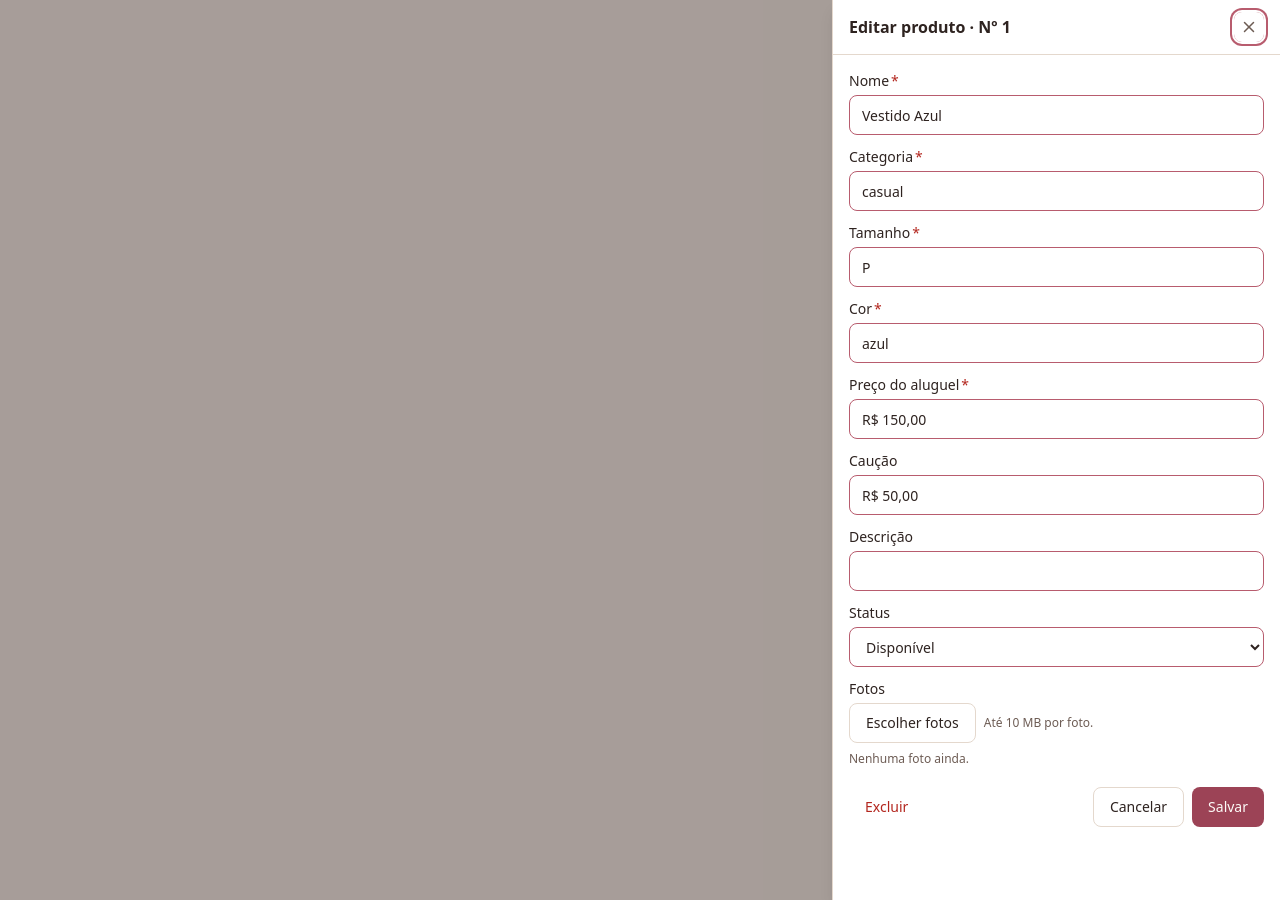
ProductDrawer › shows the translated error when deleting a product with allocation history
Click the button "Excluir" at (887,807), box [849, 787, 924, 827]
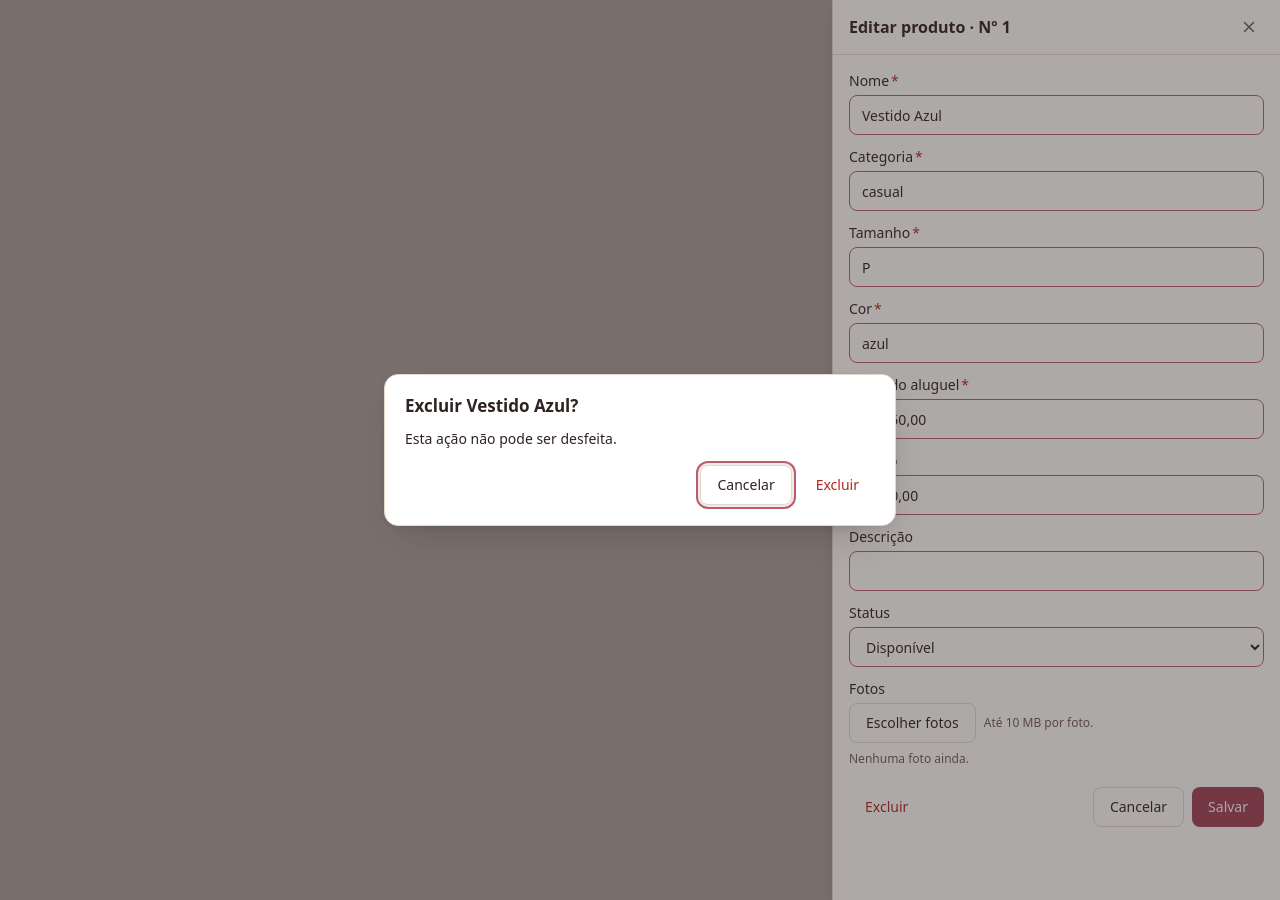
Click the button "Excluir" at (837,485), box [800, 465, 875, 505]
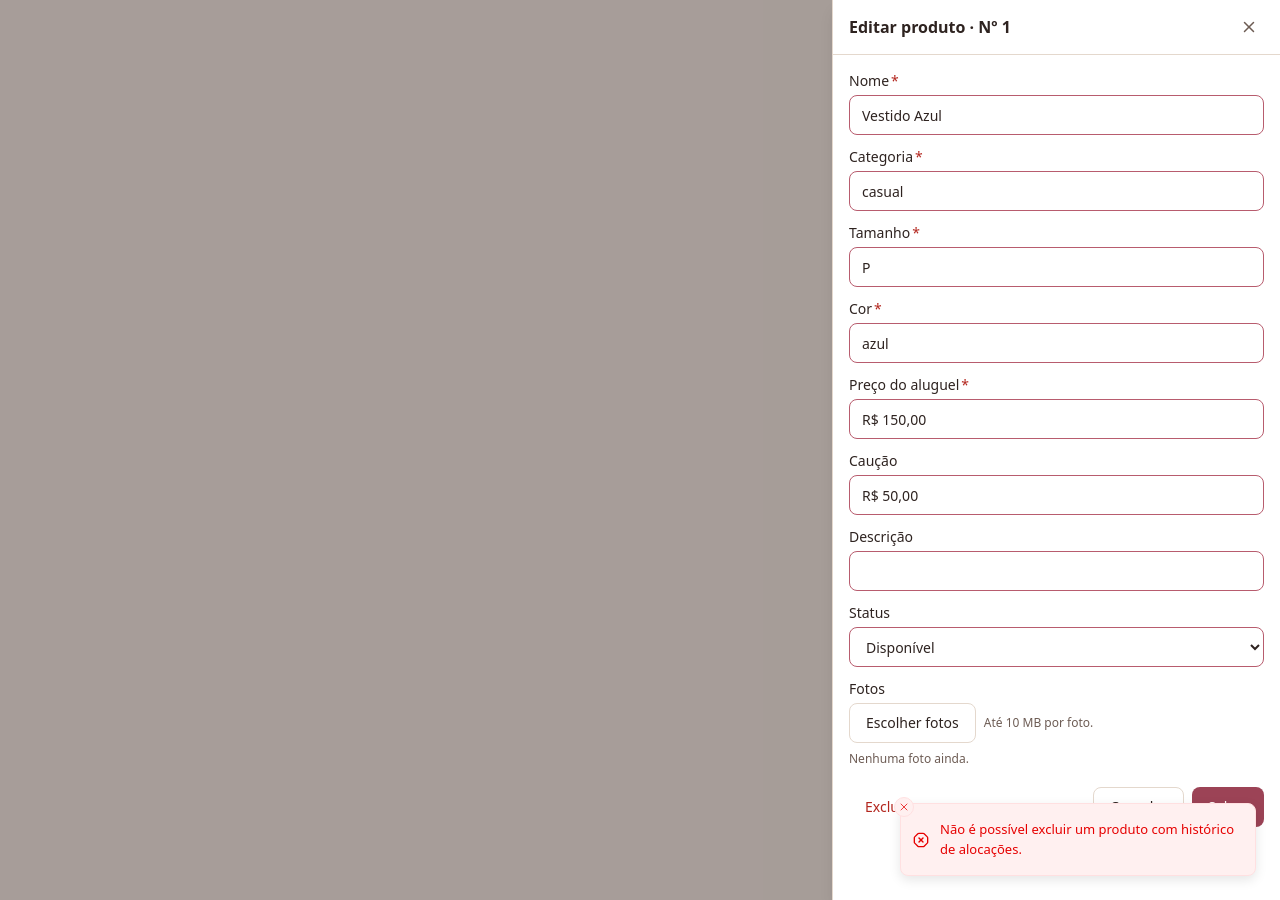
Expected: the text "Não é possível excluir um produto com histórico de alocações." is shown, [940, 820, 1239, 859]
